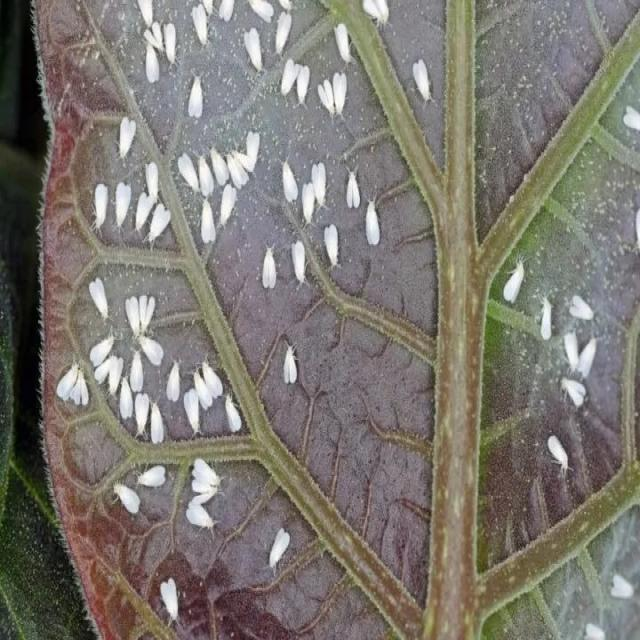Whitefly: (49, 2, 371, 548), (260, 144, 393, 304), (528, 276, 609, 496), (402, 41, 446, 136), (276, 324, 316, 398), (150, 565, 193, 632), (493, 246, 532, 314), (259, 516, 297, 584), (178, 68, 214, 127), (609, 558, 640, 617)
